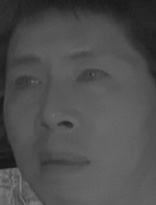eye: (74, 64, 110, 87), (12, 73, 42, 93)
mouth: (34, 145, 93, 177)
